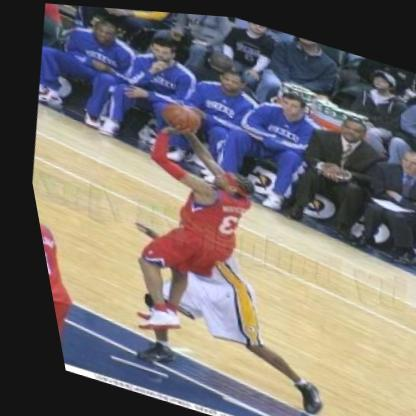basketball: (152, 92, 209, 139)
